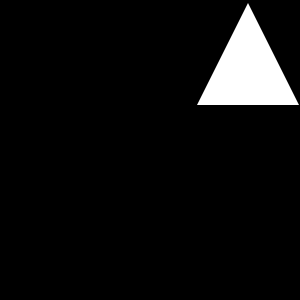triangle: (197, 3, 299, 105)
